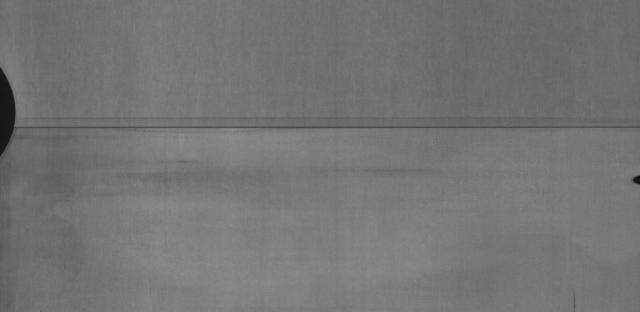crescent_gap: (0, 58, 21, 154)
welding_line: (11, 121, 640, 140)
